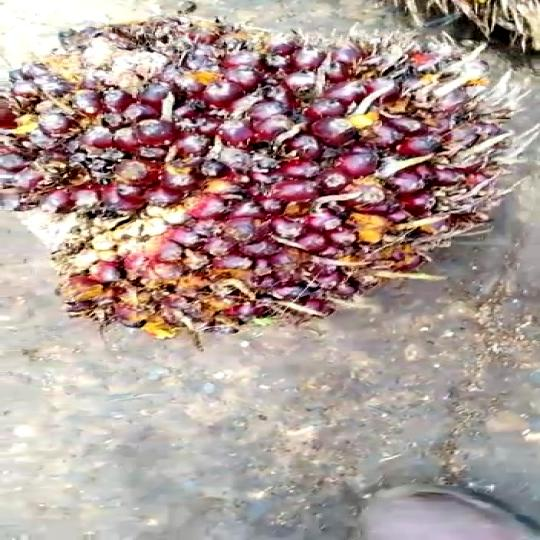masak: (0, 12, 512, 345)
